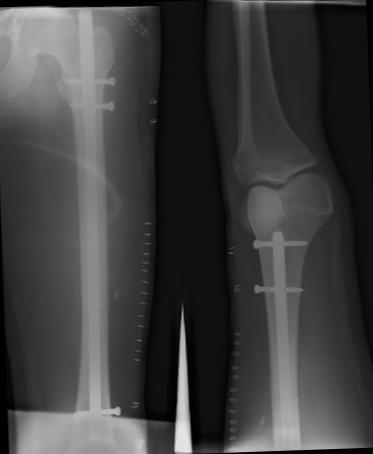fractured: (77, 285, 112, 317), (269, 389, 300, 406)
